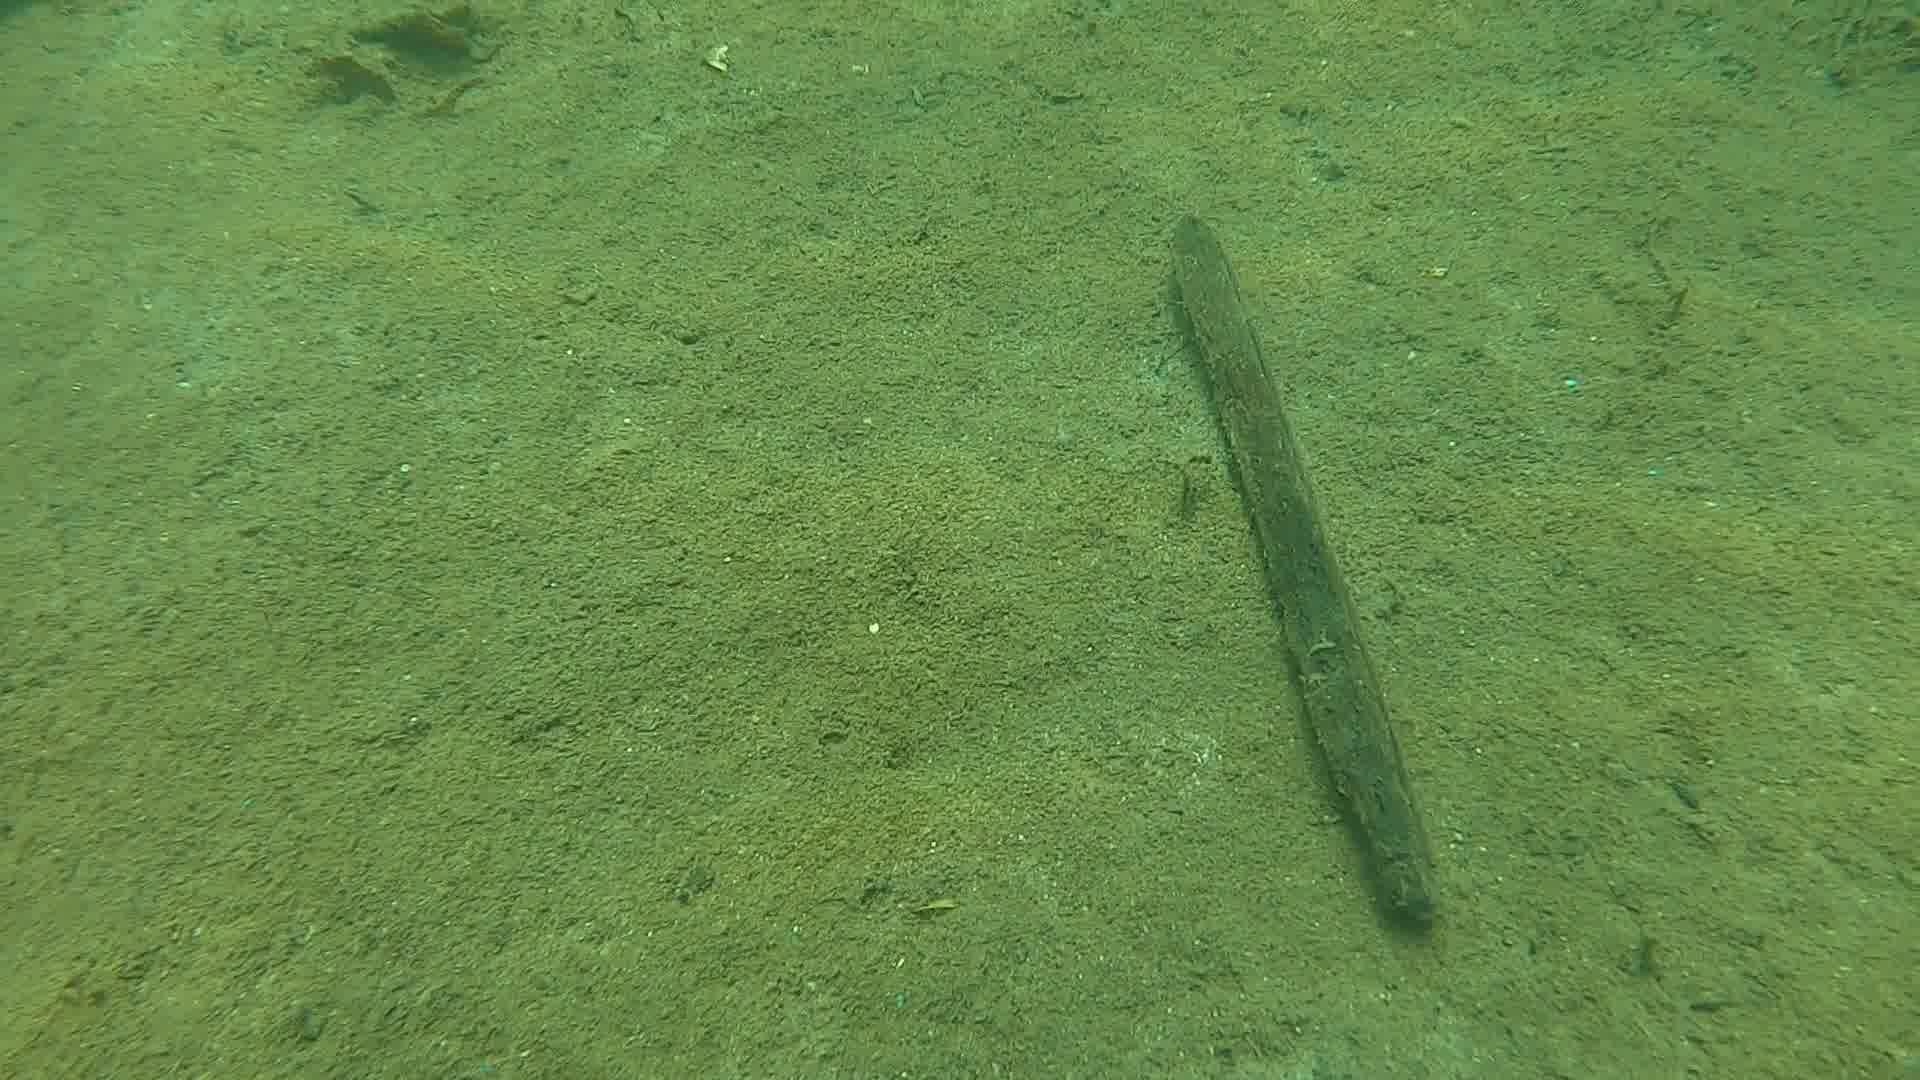wood: (1164, 214, 1437, 938)
